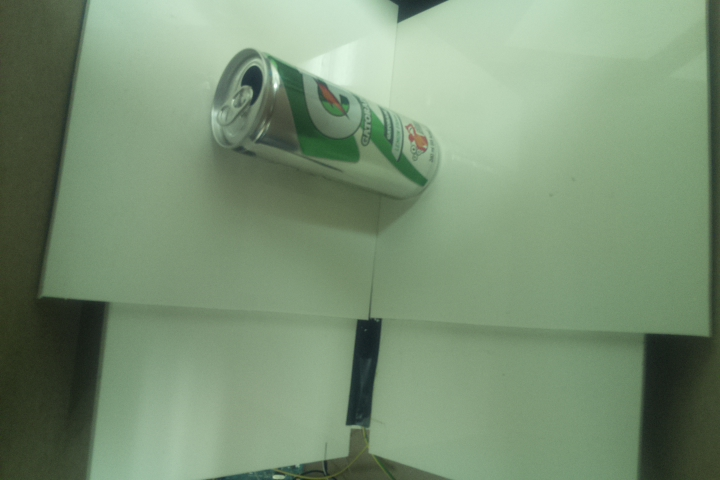can: (208, 40, 441, 203)
